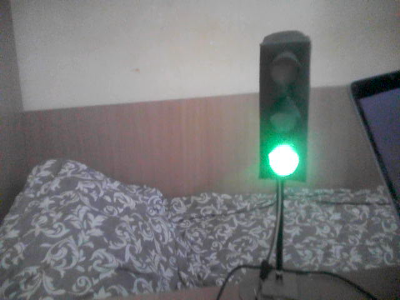trafficlight_green: (260, 43, 307, 180)
